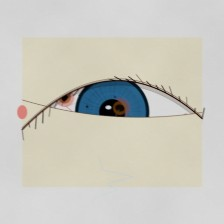foreign_body_visible: (97, 89, 143, 126)
